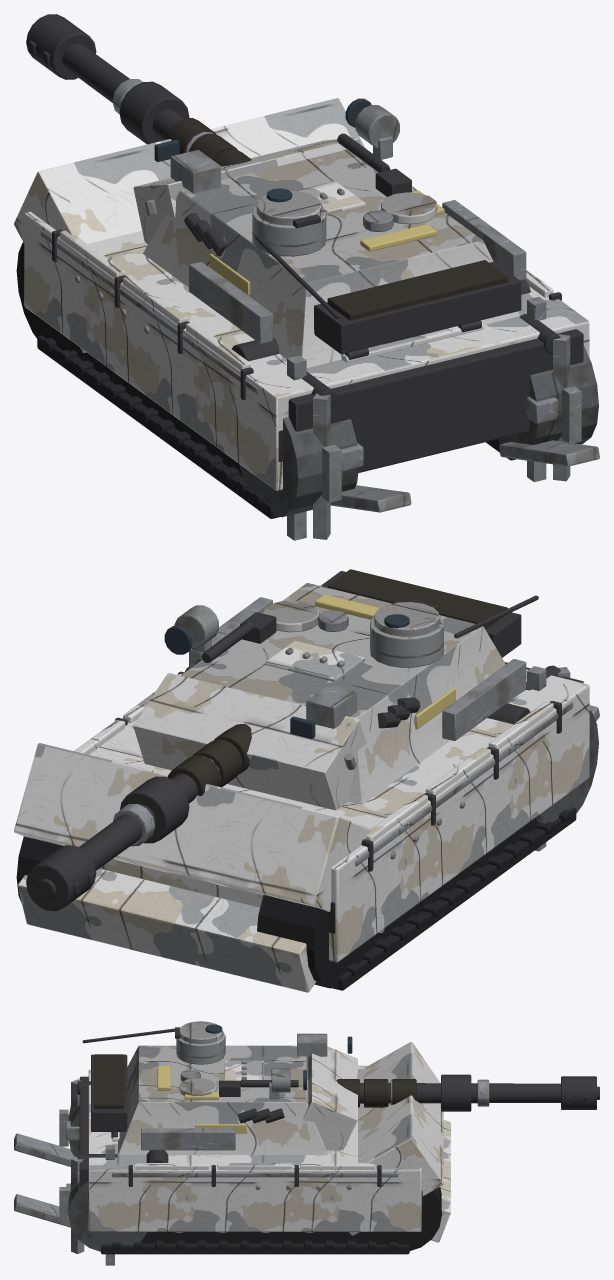
The model's file is tank_artillery.glb.
3 views of the same model, one above another, from view 1: azimuth 30°, elevation 25°; view 2: azimuth 150°, elevation 25°; view 3: azimuth 270°, elevation 25° (orthographic). The views are drawn at different scales.
Visible parts, largest first — view 1: HullMesh, TurretMesh, BarrelMesh, Wheel_L_sprocket, Wheel_R_sprocket, Wheel_L_idler; view 2: HullMesh, TurretMesh, BarrelMesh, Wheel_L_idler, Wheel_L_sprocket, Wheel_R_idler; view 3: HullMesh, TurretMesh, BarrelMesh, Wheel_R_sprocket, Wheel_R_idler, Wheel_L_sprocket, Wheel_R1, Wheel_R2, Wheel_R3, Wheel_R4, Wheel_R0.
Part boxes in pixels (x1,y1,x2,y2): HullMesh: [14, 98, 599, 518]; TurretMesh: [133, 98, 526, 367]; BarrelMesh: [26, 14, 365, 214]; Wheel_L_sprocket: [239, 355, 358, 540]; Wheel_R_sprocket: [504, 297, 598, 482]; Wheel_L_idler: [16, 242, 78, 351]; HullMesh: [14, 662, 599, 992]; TurretMesh: [133, 569, 538, 810]; BarrelMesh: [26, 640, 365, 910]; Wheel_L_idler: [257, 895, 371, 988]; Wheel_L_sprocket: [527, 666, 598, 851]; Wheel_R_idler: [16, 836, 63, 903]; HullMesh: [14, 1041, 450, 1254]; TurretMesh: [82, 1021, 357, 1154]; BarrelMesh: [224, 1060, 599, 1111]; Wheel_R_sprocket: [59, 1145, 146, 1265]; Wheel_R_idler: [363, 1187, 441, 1250]; Wheel_L_sprocket: [59, 1079, 81, 1156]; Wheel_R1: [282, 1232, 336, 1243]; Wheel_R2: [239, 1232, 289, 1243]; Wheel_R3: [195, 1232, 249, 1243]; Wheel_R4: [152, 1232, 205, 1243]; Wheel_R0: [325, 1232, 369, 1243].
Size of the model in its own units: 3.36 by 2.82 by 8.09.
Materials: 11 (2 with a texture image).
